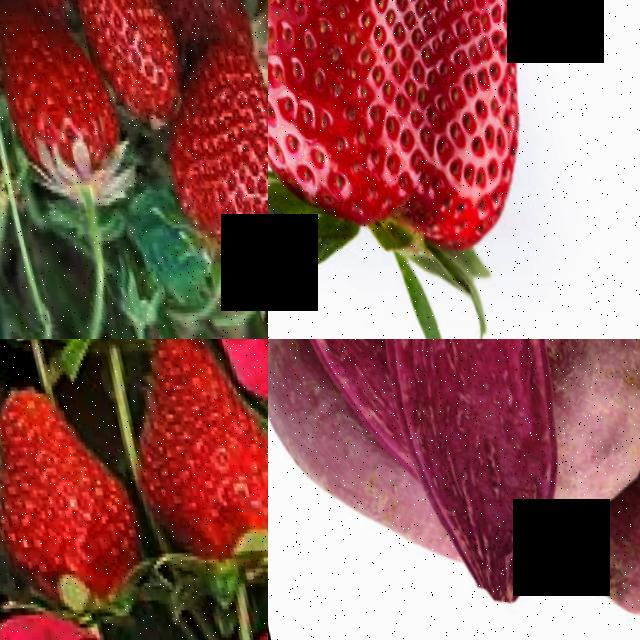strawberry: (268, 0, 582, 339), (100, 339, 268, 558), (0, 371, 142, 595), (0, 0, 124, 193), (151, 90, 268, 267), (72, 0, 181, 103), (138, 0, 250, 39)
sweet potato: (328, 339, 603, 618), (526, 339, 640, 475), (568, 478, 640, 616), (268, 339, 384, 420)
